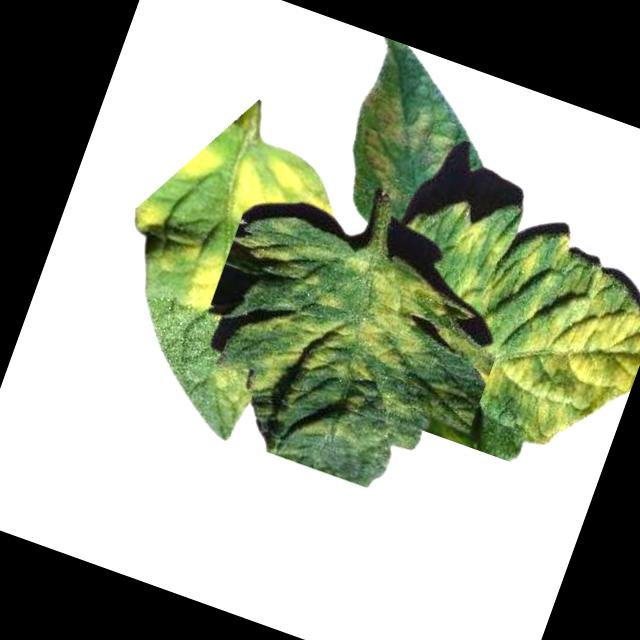Leaf_Mold: (390, 202, 640, 469), (200, 209, 458, 443), (335, 75, 464, 211), (222, 137, 351, 250), (178, 243, 230, 315), (175, 133, 230, 189), (128, 187, 170, 234)
